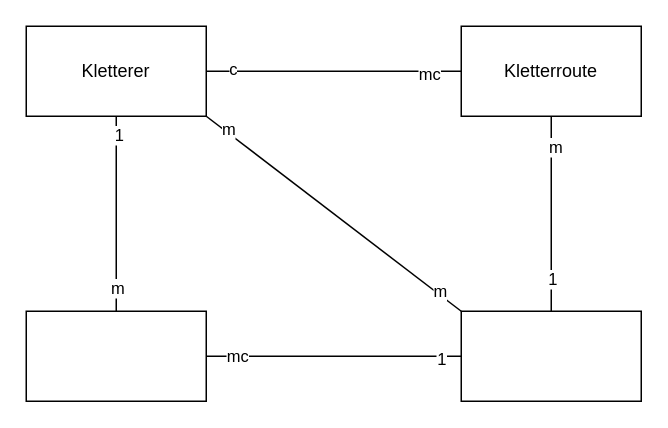
Image size: 668x428. Some labels were removed from this diagram. The shapes that lost their labels are listed below. From the top down, each one's centre as x and y in pixels, then its label:
At pixel 115 355: "Ausrüstung".
At pixel 550 355: "Kletterhalle".
